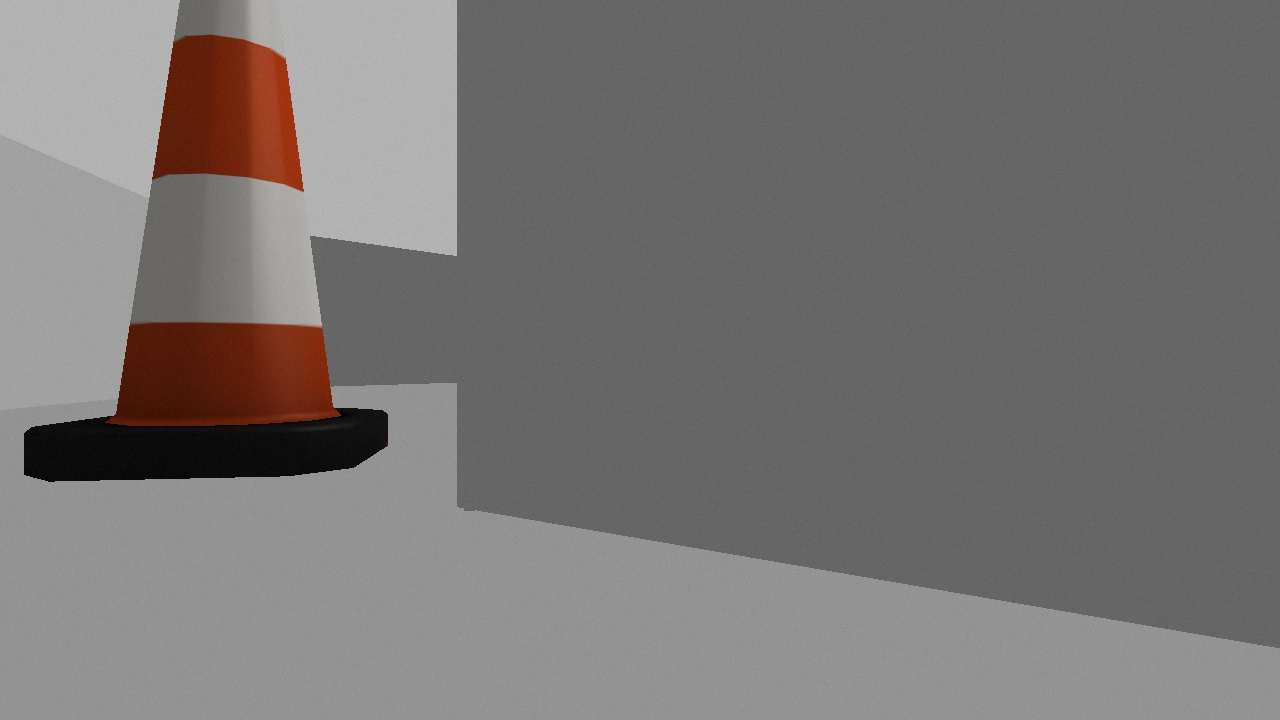barricade: (25, 1, 392, 479)
